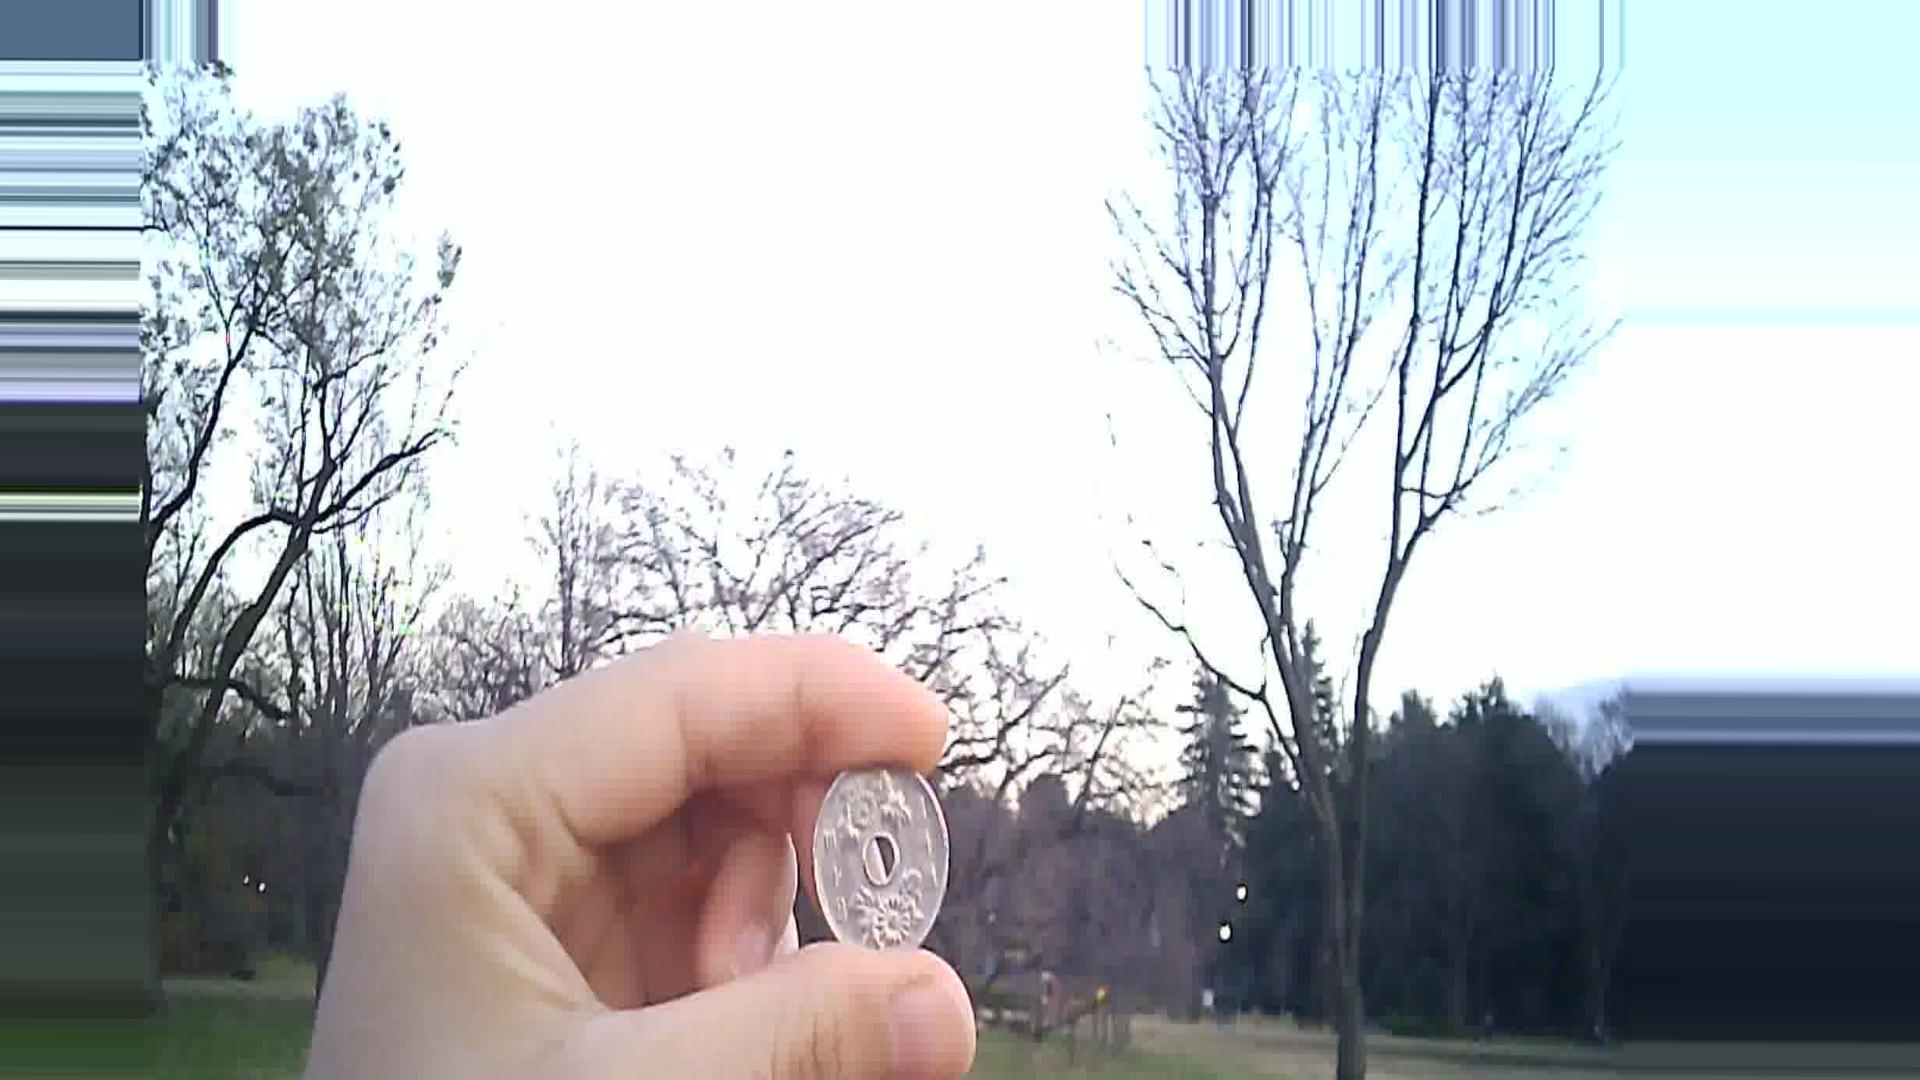50 Yen: (808, 760, 961, 953)
